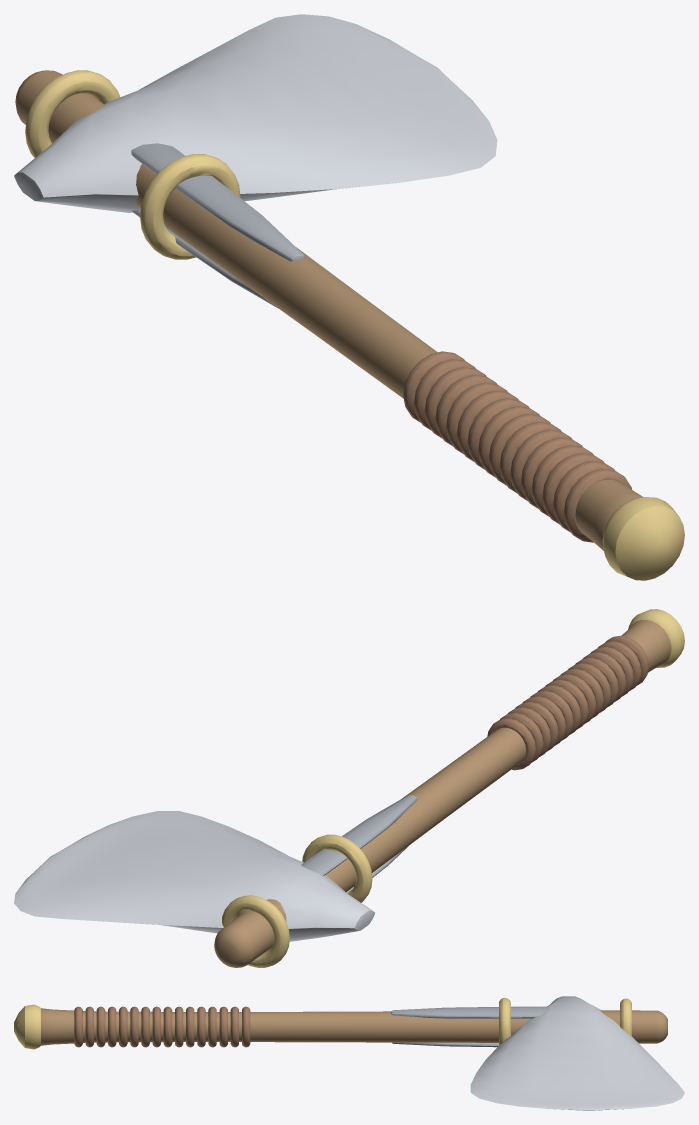
Rendered from th31_axt_kampf.glb.
3 views of the same model, one above another, from view 1: azimuth 30°, elevation 25°; view 2: azimuth 150°, elevation 25°; view 3: azimuth 270°, elevation 25° (orthographic). The views are drawn at different scales.
Parts seen in each view (by area): view 1: Axtblatt, Dreh, Dreh.001, Rohr.001, Torus, Torus.001, Torus.002, Torus.004, Torus.005, Torus.007, Torus.008, Torus.013 (+10 smaller); view 2: Axtblatt, Dreh, Rohr.001, Torus.001, Torus, Dreh.001, Torus.017, Torus.003, Torus.005, Torus.008, Torus.013, Torus.006 (+10 smaller); view 3: Axtblatt, Dreh, Rohr.001, Dreh.001, Torus, Rohr, Torus.001, Torus.004, Torus.010, Torus.006, Torus.012, Torus.003 (+11 smaller).
Boxes of the visible parts, box(x1,y1,x2,y2) form: Axtblatt: box(14, 14, 497, 212); Dreh: box(15, 70, 642, 550); Dreh.001: box(602, 497, 684, 580); Rohr.001: box(131, 143, 304, 261); Torus: box(140, 154, 240, 259); Torus.001: box(25, 70, 119, 157); Torus.002: box(563, 469, 631, 542); Torus.004: box(542, 453, 604, 524); Torus.005: box(531, 445, 593, 516); Torus.007: box(510, 429, 572, 501); Torus.008: box(499, 422, 561, 493); Torus.013: box(446, 382, 507, 454); Axtblatt: box(14, 811, 374, 941); Dreh: box(214, 619, 671, 967); Rohr.001: box(301, 794, 417, 875); Torus.001: box(222, 895, 289, 967); Torus: box(302, 834, 372, 902); Dreh.001: box(628, 609, 684, 667); Torus.017: box(487, 718, 535, 770); Torus.003: box(598, 641, 641, 691); Torus.005: box(583, 652, 626, 702); Torus.008: box(560, 668, 603, 718); Torus.013: box(522, 696, 566, 746); Torus.006: box(575, 657, 618, 707); Axtblatt: box(470, 996, 684, 1110); Dreh: box(41, 1008, 667, 1045); Rohr.001: box(391, 1006, 548, 1018); Dreh.001: box(14, 1004, 40, 1049); Torus: box(499, 998, 510, 1045); Rohr: box(392, 1042, 498, 1047); Torus.001: box(620, 998, 631, 1036); Torus.004: box(96, 1006, 105, 1047); Torus.010: box(163, 1006, 172, 1047); Torus.006: box(119, 1006, 127, 1047); Torus.012: box(186, 1006, 194, 1047); Torus.003: box(85, 1006, 93, 1047).
Bounding box in the file's own units: 0.332 × 0.075 × 0.8639.
